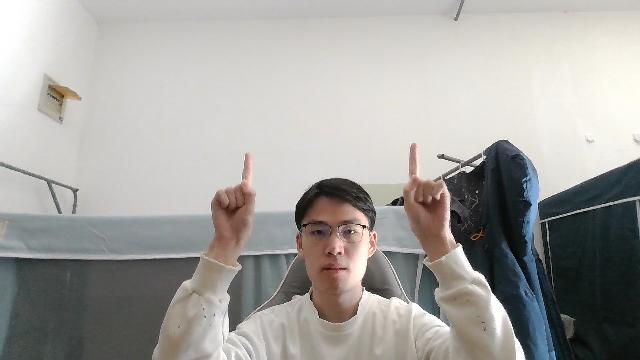one: (405, 141, 451, 238), (211, 151, 257, 243)
